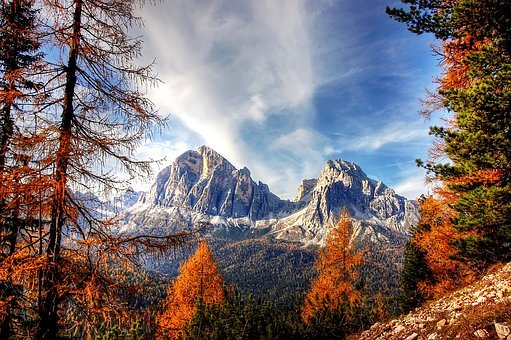mountain: (136, 140, 426, 268)
sky: (120, 5, 448, 141)
tree: (10, 8, 136, 325), (384, 6, 510, 323)
